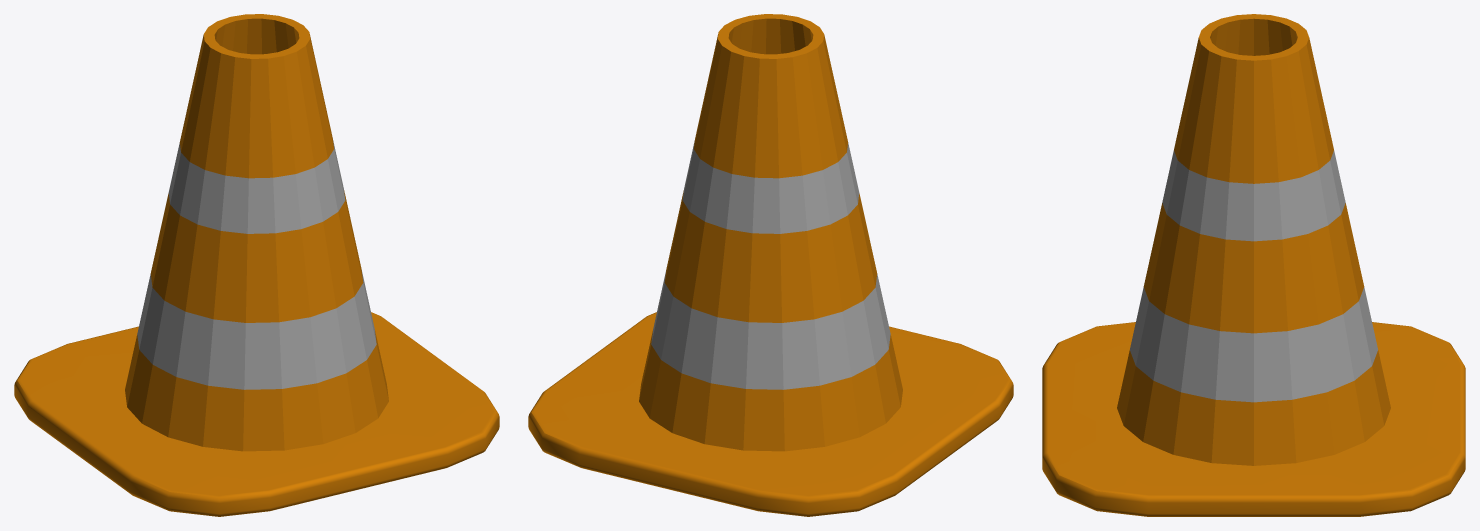
Rendered from TrafficCone.fbx.
3 views of the same model, side by side, from view 1: azimuth 30°, elevation 25°; view 2: azimuth 150°, elevation 25°; view 3: azimuth 270°, elevation 25° (orthographic). The views are drawn at different scales.
Visible parts, largest first — view 1: Top, Bottom; view 2: Top, Bottom; view 3: Top, Bottom.
Boxes of the visible parts, x1,y1,x2,y2 form: Top: (125,14,388,451); Bottom: (14,312,499,516); Top: (639,14,902,451); Bottom: (528,312,1013,516); Top: (1117,14,1390,465); Bottom: (1042,322,1465,516).
Bounding box in the file's own units: 0.01 × 0.0102 × 0.01.
